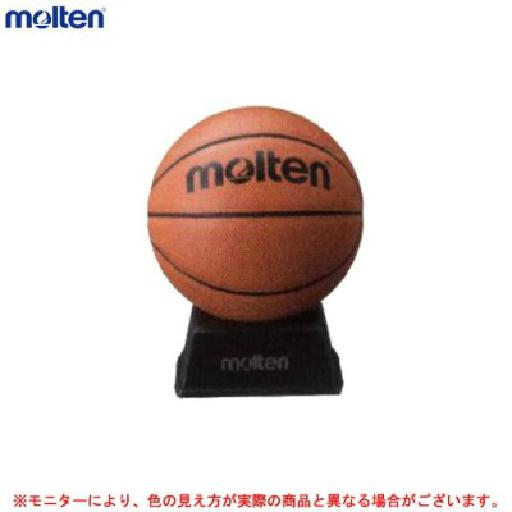ball: (146, 106, 364, 321)
